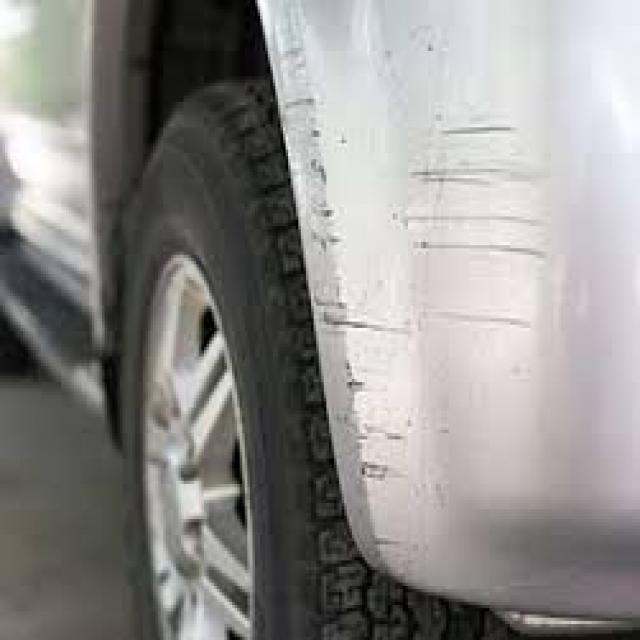dent-or-scratch: (270, 0, 580, 558)
